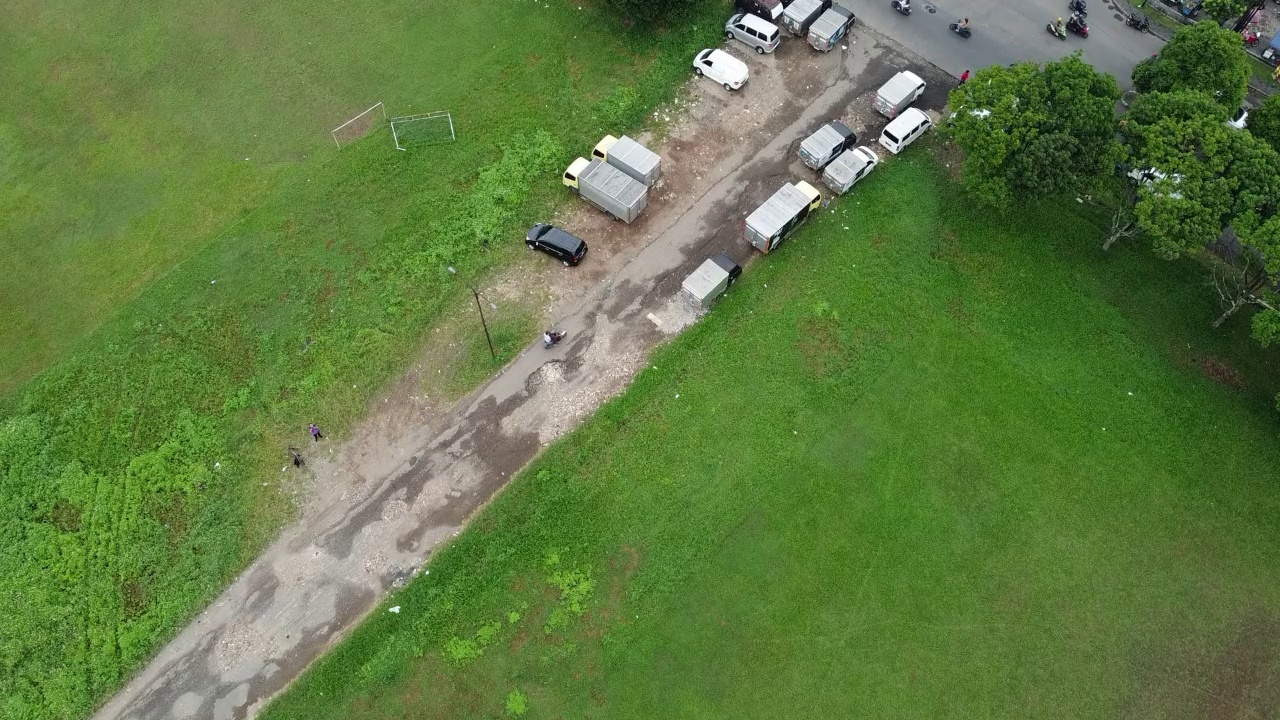mobil: (525, 218, 588, 269), (876, 105, 934, 160), (697, 46, 749, 96), (728, 14, 785, 59)
